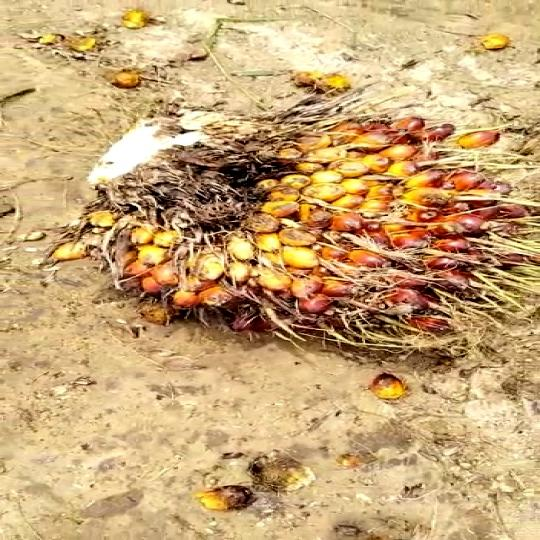masak: (77, 91, 540, 362)
